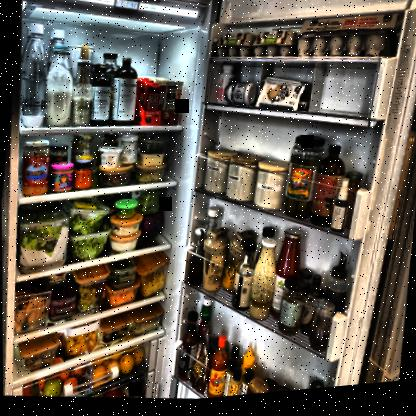apple: (42, 377, 62, 398)
ginger: (23, 296, 38, 317), (26, 311, 36, 325), (13, 322, 22, 333)
grapes: (76, 288, 96, 309)
lemon: (119, 355, 134, 377), (131, 349, 144, 368), (105, 360, 119, 377), (92, 365, 106, 382)
milk: (43, 44, 78, 128)
parsley: (74, 241, 99, 260)
